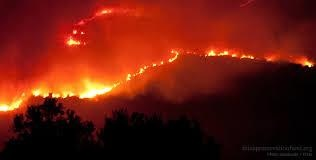fire: (64, 28, 86, 47)
